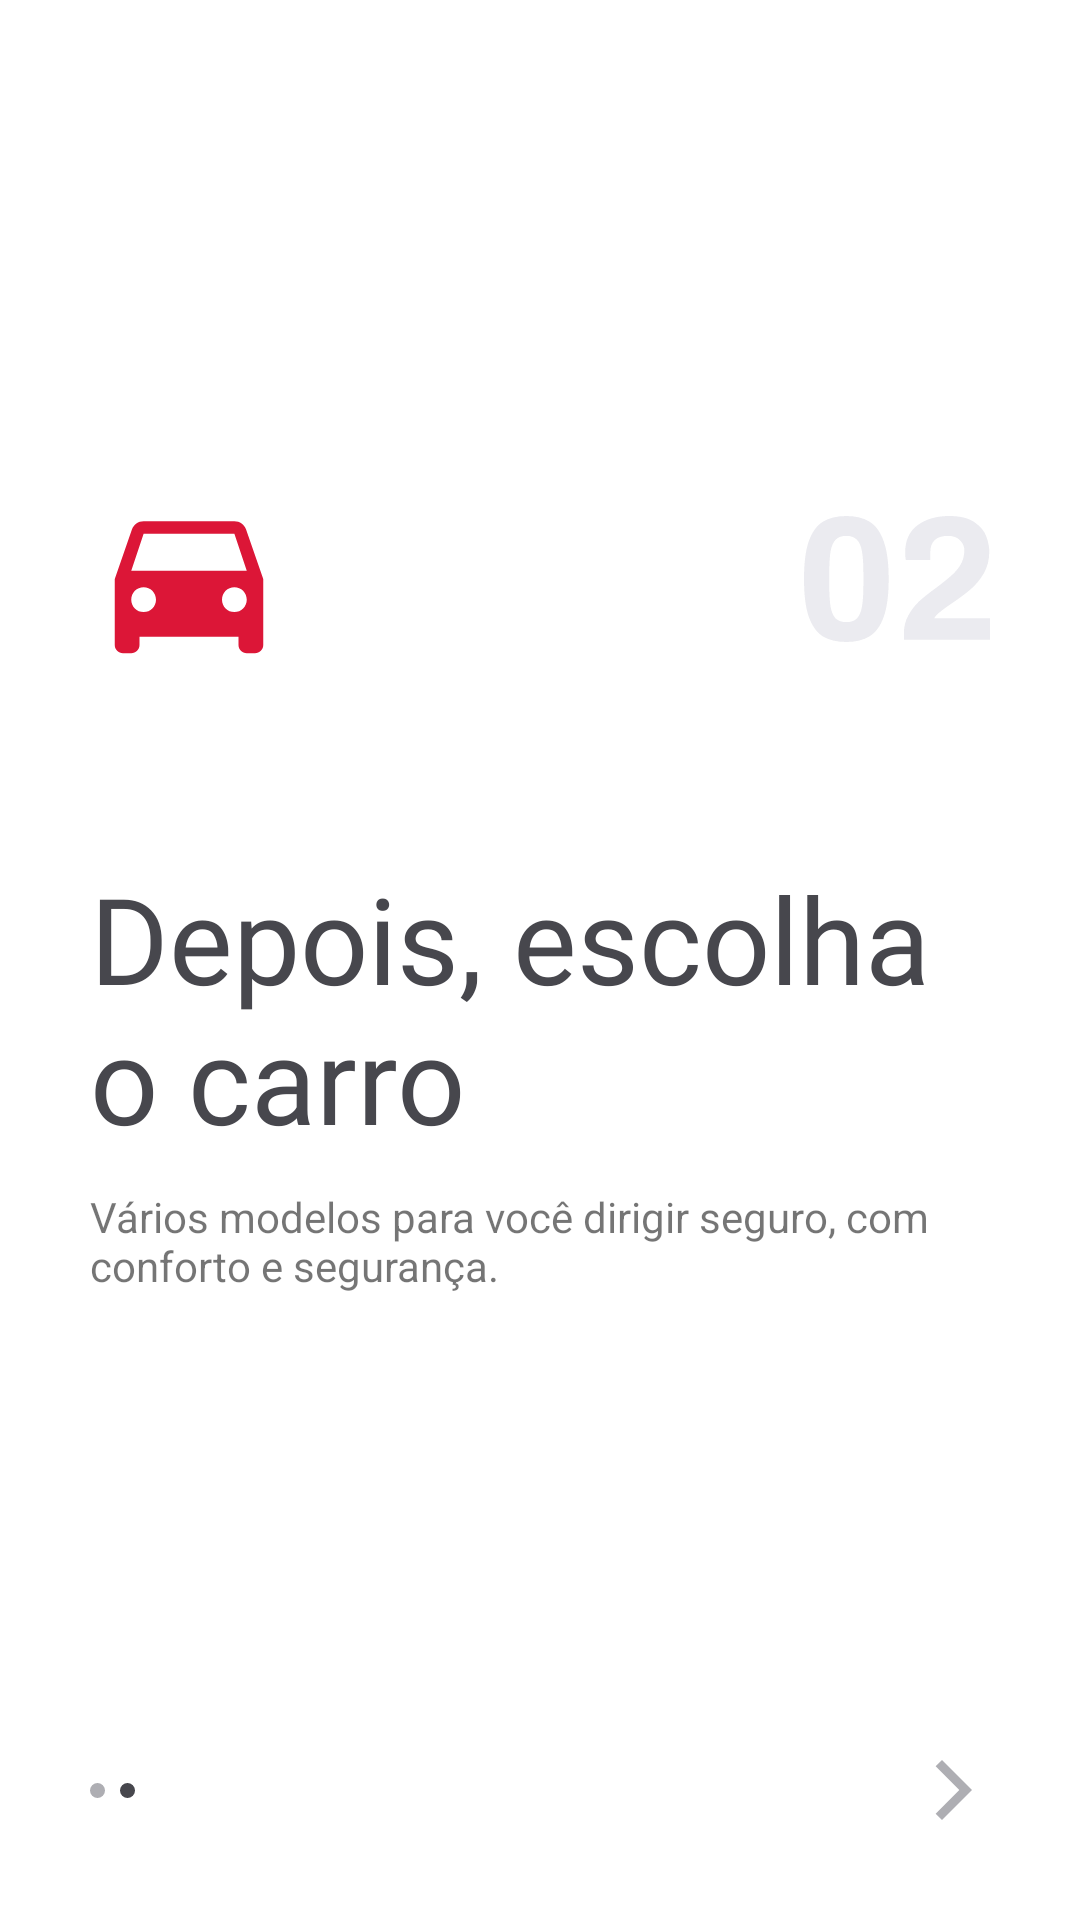

Where icons sit on this 1080 × 1920 app screen, as Rect(x1, y1, x2, y2):
car: Rect(114, 521, 264, 654)
chevron right: Rect(936, 1760, 972, 1820)
